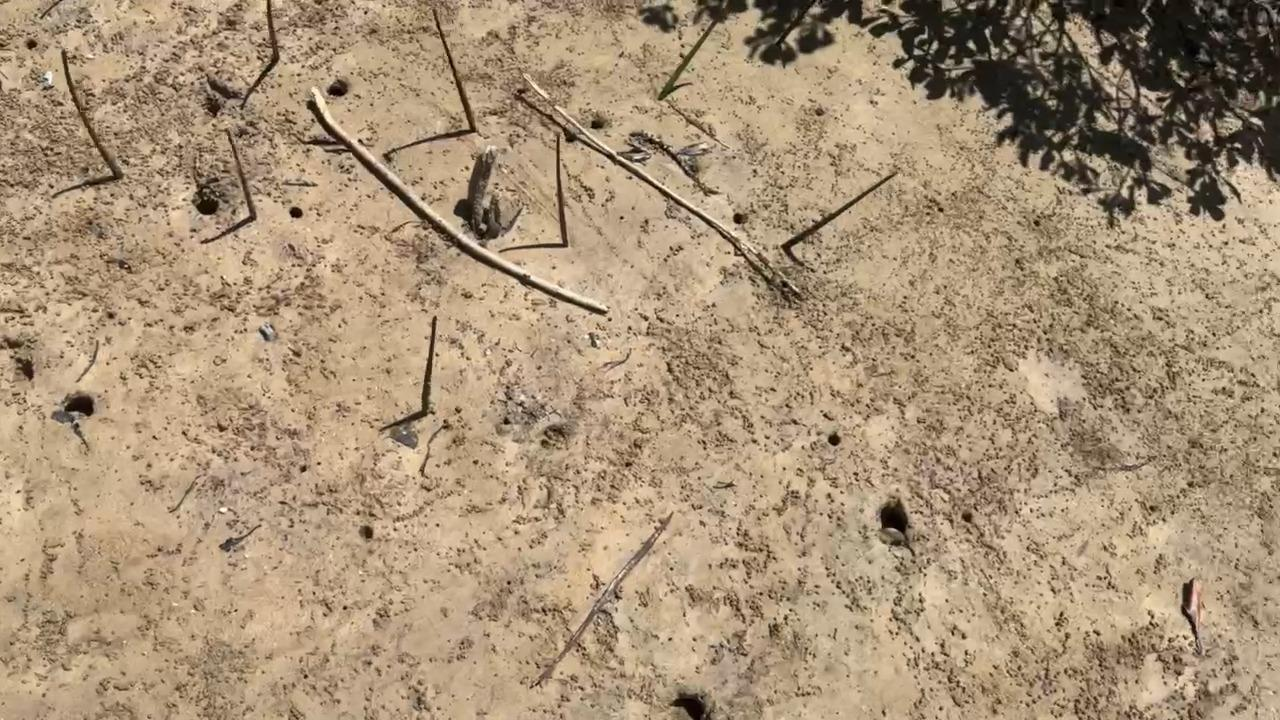Tree: (781, 173, 899, 246), (60, 49, 124, 175), (657, 3, 723, 100), (432, 7, 476, 134), (226, 128, 258, 220), (419, 314, 440, 417), (552, 132, 570, 247), (264, 0, 280, 61)
